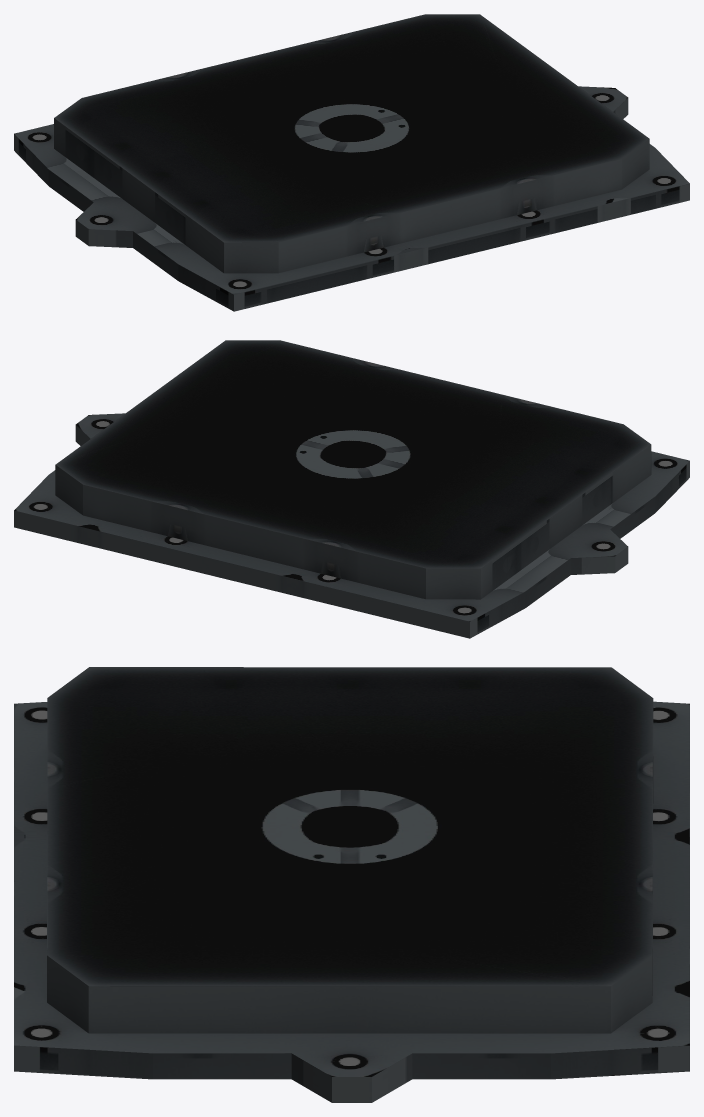
File: hatch.dae
3 views of the same model, one above another, from view 1: azimuth 30°, elevation 25°; view 2: azimuth 150°, elevation 25°; view 3: azimuth 270°, elevation 25° (orthographic). The views are drawn at different scales.
Parts seen in each view (by area): view 1: AM3 Application Hatch LP; view 2: AM3 Application Hatch LP; view 3: AM3 Application Hatch LP.
Boxes of the visible parts, x1,y1,x2,y2 form: AM3 Application Hatch LP: [14, 14, 689, 311]; AM3 Application Hatch LP: [14, 340, 689, 638]; AM3 Application Hatch LP: [14, 667, 689, 1102].
Bounding box in the file's own units: 0.1832 × 0.1294 × 0.0155.
Materials: 1 (1 with a texture image).
